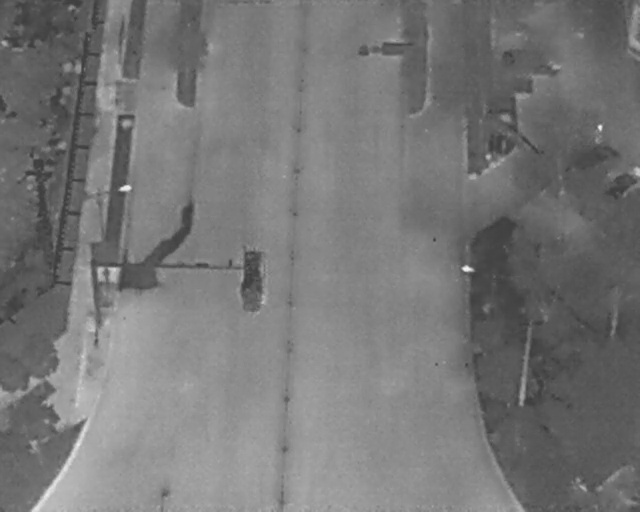Car: (605, 162, 639, 200)
OtherVehicle: (241, 250, 267, 313)
Person: (596, 123, 604, 142)
